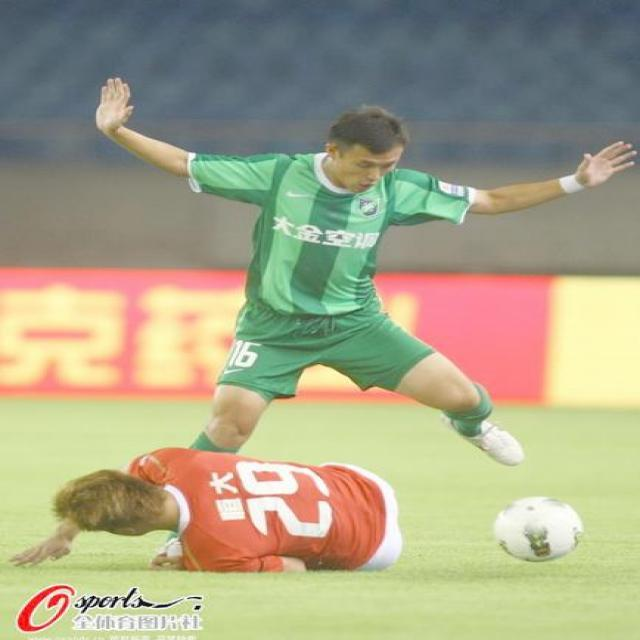fall: (37, 445, 398, 575)
